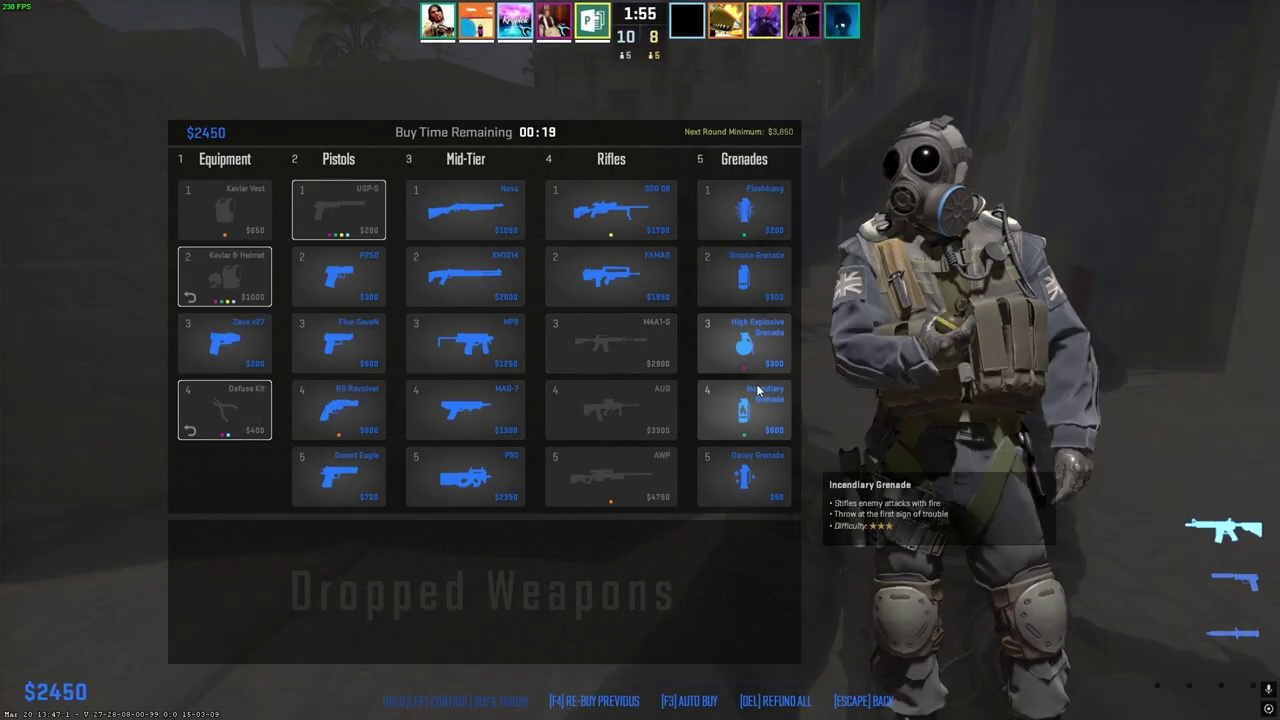CT: (855, 121, 1077, 720)
